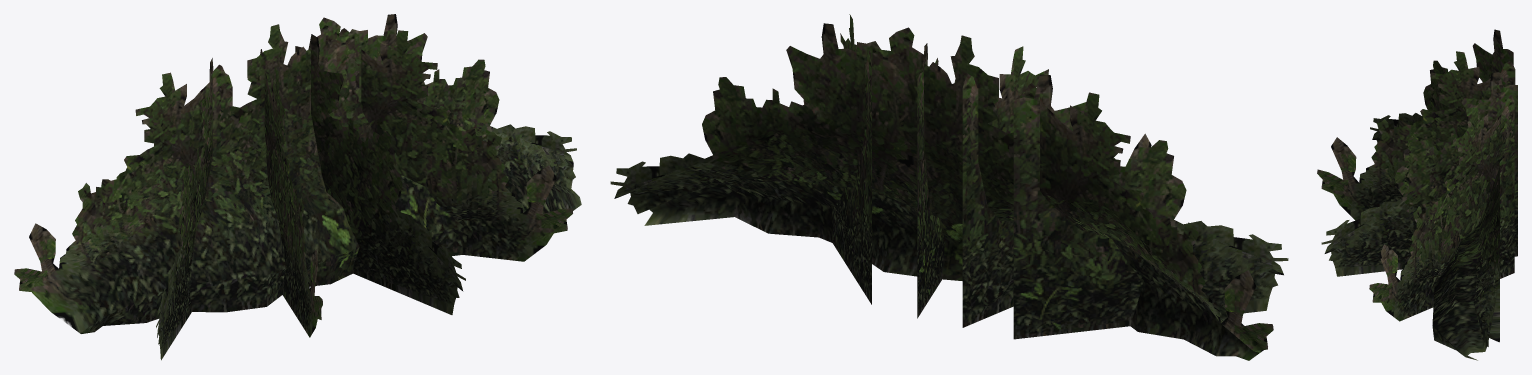
File: sm10_024_middleplants01a.fbx
3 renders of one model, left to right at view 1: azimuth 30°, elevation 25°; view 2: azimuth 150°, elevation 25°; view 3: azimuth 270°, elevation 25°, orthographic. The views are drawn at different scales.
Parts seen in each view (by area): view 1: LOD_1_Group_0_Sub_1__sm10_024_MiddlePlants01A_A_Mat__Env_Rai; view 2: LOD_1_Group_0_Sub_1__sm10_024_MiddlePlants01A_A_Mat__Env_Rai; view 3: LOD_1_Group_0_Sub_1__sm10_024_MiddlePlants01A_A_Mat__Env_Rai.
Part boxes in pixels (left/top/right/bottom): LOD_1_Group_0_Sub_1__sm10_024_MiddlePlants01A_A_Mat__Env_Rai: left=14, top=14, right=581, bottom=360; LOD_1_Group_0_Sub_1__sm10_024_MiddlePlants01A_A_Mat__Env_Rai: left=610, top=14, right=1288, bottom=360; LOD_1_Group_0_Sub_1__sm10_024_MiddlePlants01A_A_Mat__Env_Rai: left=1317, top=29, right=1517, bottom=360.
Bounding box in the file's own units: 4.51 × 1.83 × 1.66.
